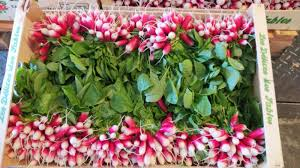raddish: (110, 27, 145, 63), (38, 124, 64, 164), (10, 103, 36, 141), (105, 10, 151, 29), (180, 130, 211, 153), (112, 143, 140, 168), (220, 17, 244, 42), (41, 23, 64, 45), (197, 17, 216, 38), (242, 124, 266, 140), (143, 128, 161, 149), (156, 128, 174, 147), (77, 102, 92, 124), (66, 29, 86, 44), (179, 15, 195, 33), (120, 111, 140, 125), (219, 136, 232, 156), (181, 33, 197, 49), (70, 130, 83, 147), (83, 13, 96, 30), (99, 137, 110, 154), (157, 42, 171, 54), (161, 21, 171, 32)
